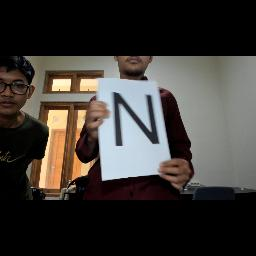n: (109, 90, 163, 154)
